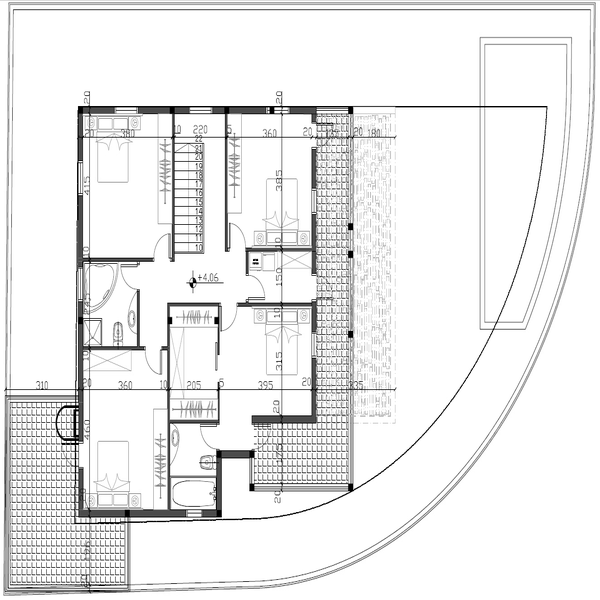door: (151, 227, 182, 267), (141, 342, 165, 381), (217, 303, 245, 335), (243, 270, 267, 302), (197, 419, 218, 454), (117, 264, 144, 290), (227, 218, 251, 246)
room: (76, 98, 175, 274), (217, 101, 324, 254), (86, 338, 175, 514), (214, 295, 322, 423), (163, 294, 227, 427), (157, 421, 224, 511)
wall: (162, 305, 175, 509), (164, 104, 179, 267), (70, 304, 86, 439), (76, 505, 184, 522), (72, 194, 95, 263), (221, 114, 231, 254), (249, 413, 326, 427), (242, 300, 317, 314), (306, 214, 322, 273), (72, 466, 90, 518), (209, 102, 280, 115), (305, 358, 318, 423), (164, 412, 220, 427), (164, 300, 223, 314), (215, 448, 227, 515), (244, 245, 311, 256), (80, 343, 142, 354), (80, 255, 155, 264), (136, 104, 193, 114), (76, 104, 85, 164), (309, 148, 321, 192), (136, 293, 145, 341), (80, 105, 116, 116), (286, 103, 314, 114), (310, 301, 319, 335), (217, 452, 255, 460)
window: (70, 264, 91, 302), (305, 182, 326, 216), (75, 162, 91, 199), (309, 328, 317, 356)
